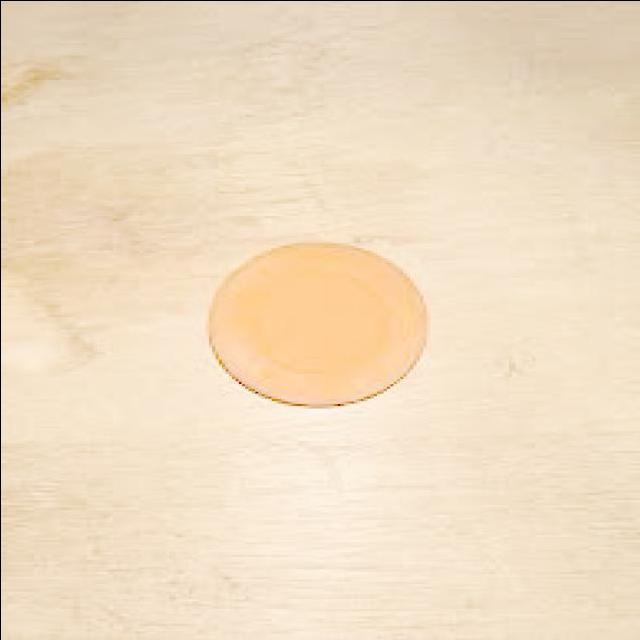chip: (202, 236, 428, 408)
